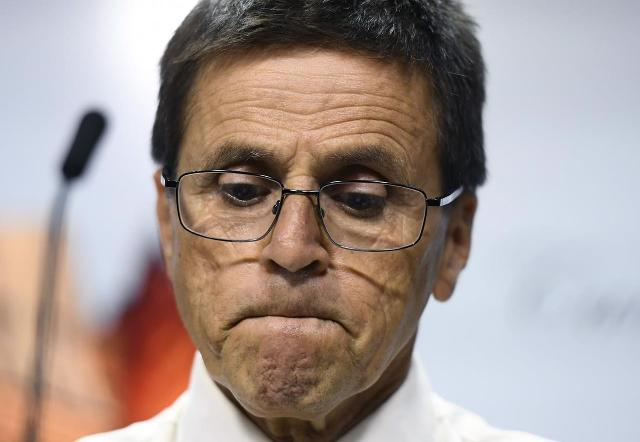chin: (258, 362, 308, 398)
forehead: (349, 93, 415, 144), (212, 92, 284, 138), (294, 94, 342, 138)
frown_line: (279, 144, 299, 176)
